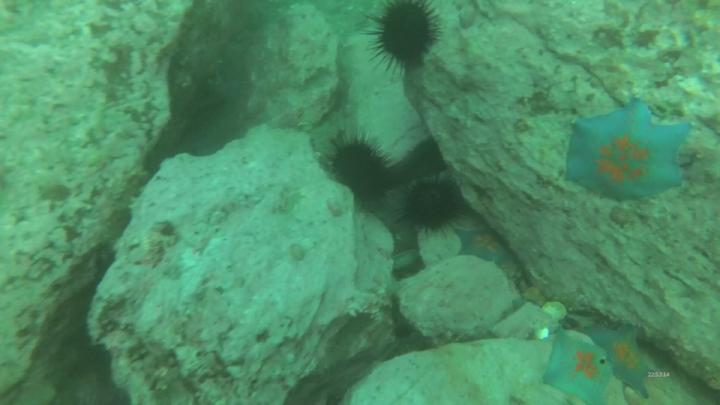echinus: (332, 141, 394, 200), (379, 1, 434, 66), (407, 176, 460, 230)
starfish: (567, 101, 692, 200), (586, 322, 654, 397), (546, 332, 614, 405), (459, 229, 516, 264)
